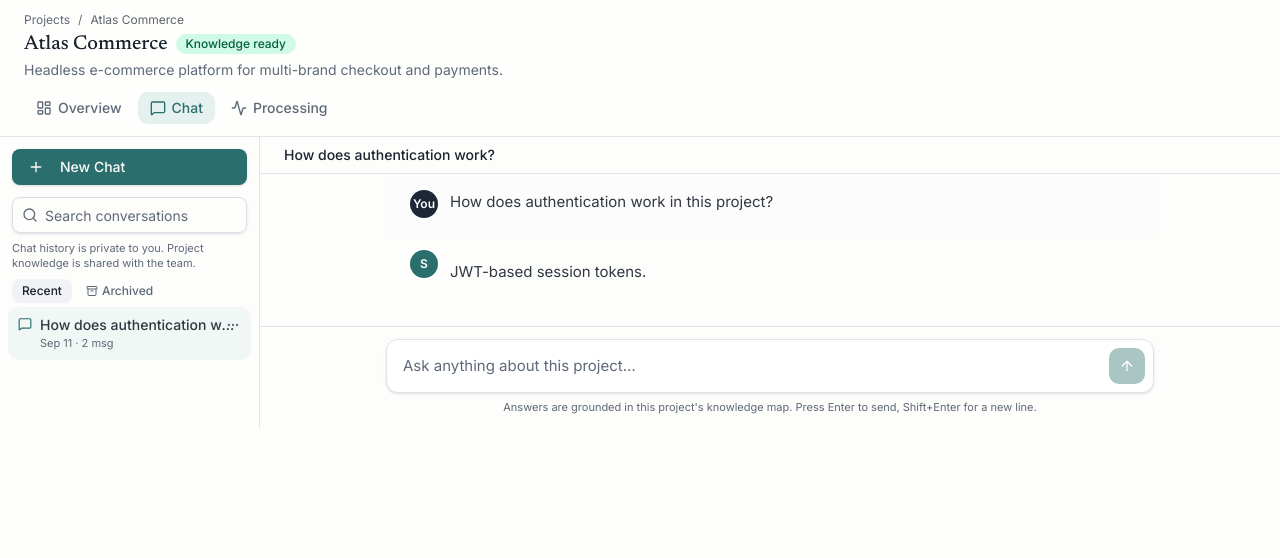
Scenario: ChatWorkspace › shows HTTP error before stream opens
The image size is (1280, 558).
Check: the text "JWT-based session tokens." is shown, box [450,262,646,281]
Type "Secret?" into the text box with placeholder "Ask anything about this project…".
click(748, 366); type("Secret?")  # box [395,348,1101,384]
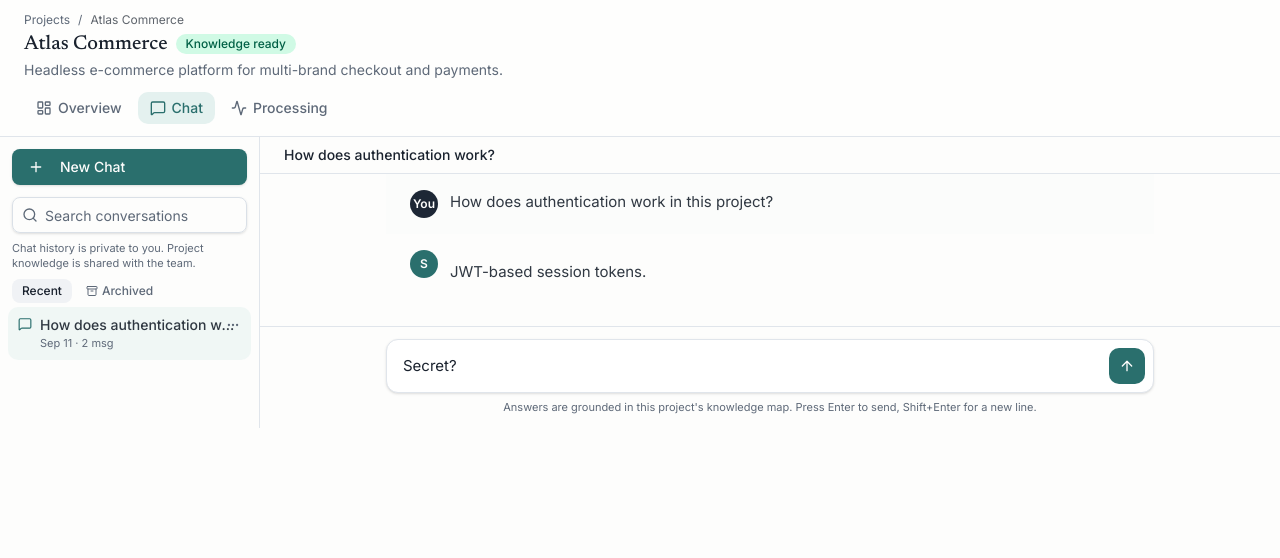
Click the button named "Send".
click(1127, 366)  # box [1109,348,1145,384]
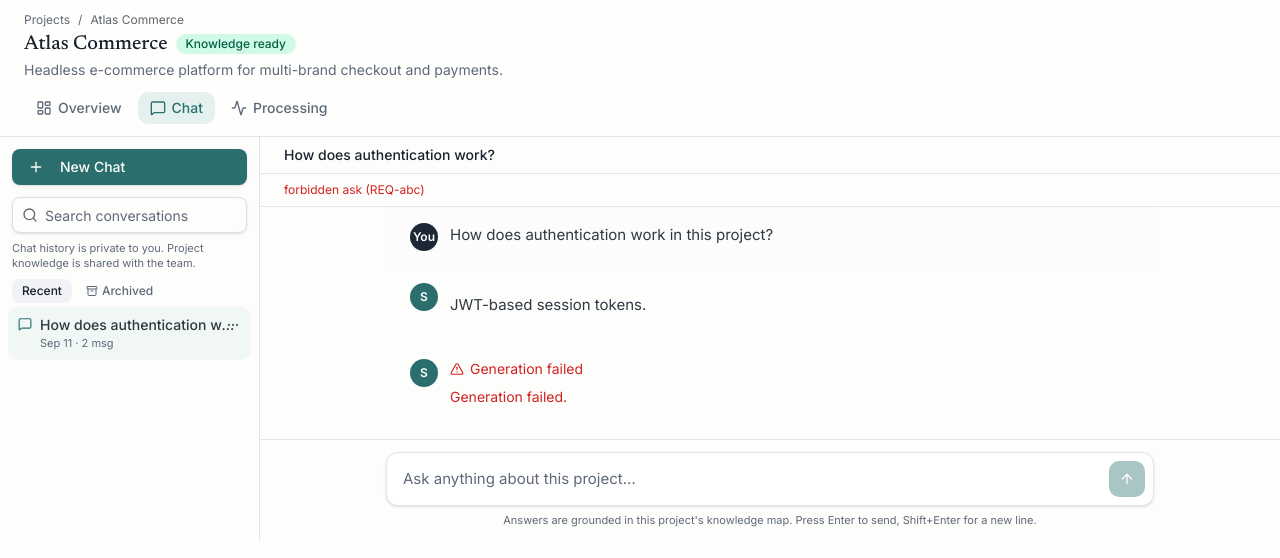
Check: the text "forbidden ask (REQ-abc)" is shown, box [260,174,1279,207]
